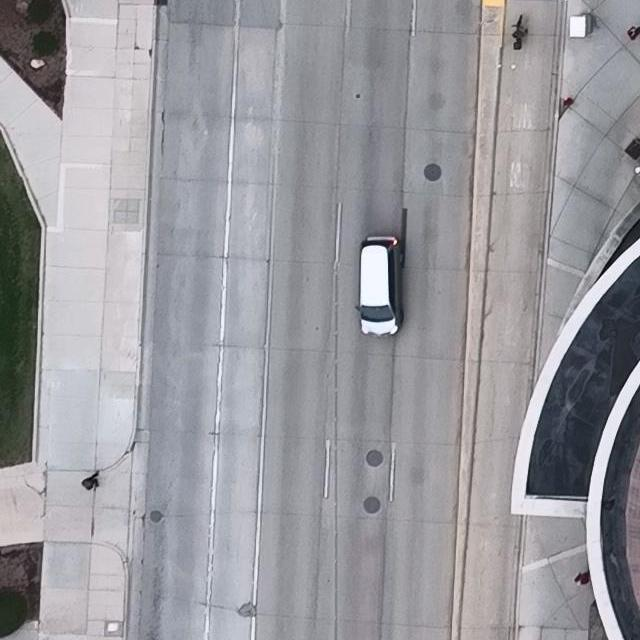car: (353, 234, 401, 336)
